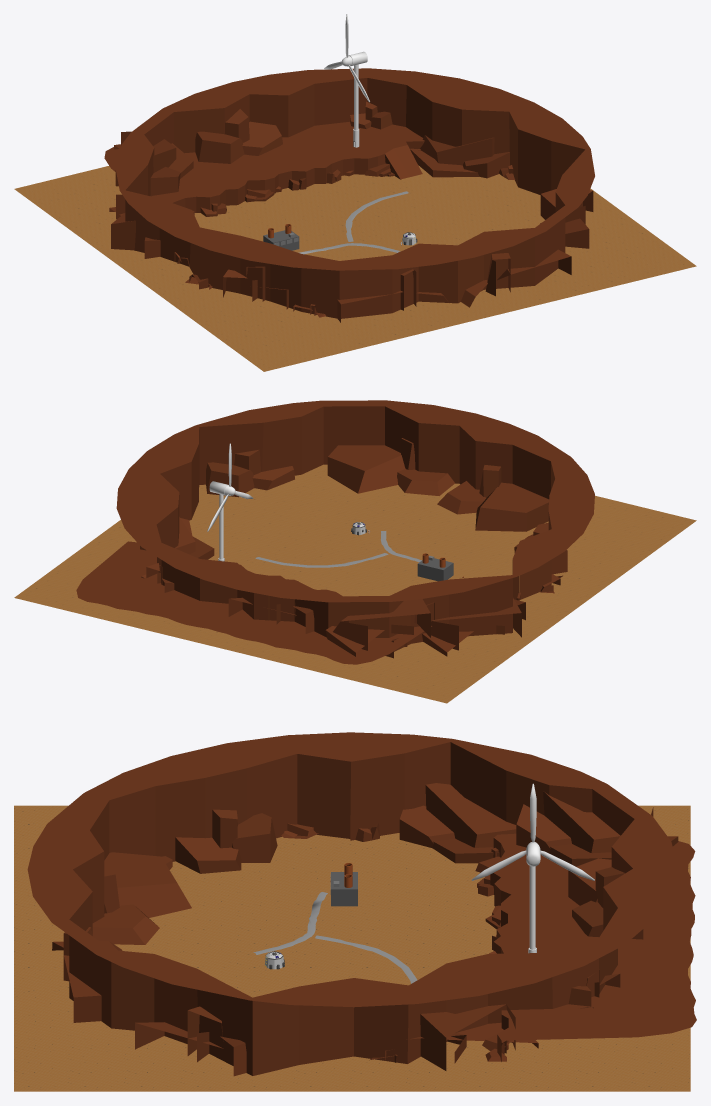
Rendered from World.fbx.
The picture shows the model from 3 angles, top to bottom: view 1: azimuth 30°, elevation 25°; view 2: azimuth 150°, elevation 25°; view 3: azimuth 270°, elevation 25°; orthographic projection. The views are drawn at different scales.
Parts seen in each view (by area): view 1: Cliffs, Ground, Path, Geothermal_Outside; view 2: Cliffs, Ground, Geothermal_Outside, Path, Windturbine_Spinner; view 3: Cliffs, Ground, Path, Windturbine_Spinner, Geothermal_Outside, Windturbine_Outside_Stem.
Part boxes in pixels (x1=…): Cliffs: x1=104, y1=68, x2=594, y2=322; Ground: x1=14, y1=165, x2=696, y2=371; Path: x1=298, y1=191, x2=408, y2=254; Geothermal_Outside: x1=263, y1=224, x2=299, y2=250; Cliffs: x1=76, y1=400, x2=594, y2=664; Ground: x1=14, y1=464, x2=696, y2=703; Geothermal_Outside: x1=417, y1=553, x2=453, y2=581; Path: x1=255, y1=531, x2=421, y2=567; Windturbine_Spinner: x1=207, y1=443, x2=253, y2=531; Cliffs: x1=27, y1=732, x2=696, y2=1076; Ground: x1=14, y1=805, x2=690, y2=1091; Path: x1=253, y1=892, x2=417, y2=983; Windturbine_Spinner: x1=471, y1=783, x2=594, y2=880; Geothermal_Outside: x1=330, y1=863, x2=357, y2=906; Windturbine_Outside_Stem: x1=528, y1=866, x2=536, y2=953.
Size of the model in its own units: 5194 by 1760 by 5242.
Materials: 7 (5 with a texture image).
